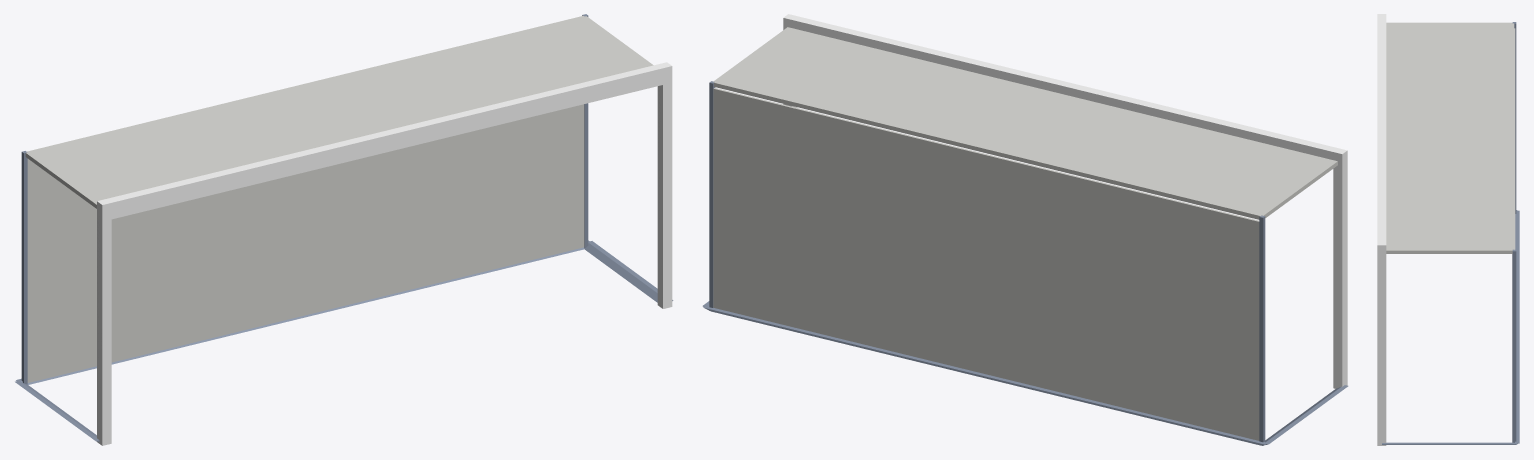
Rendered from goal_soccer.glb.
3 renders of one model, left to right at view 1: azimuth 30°, elevation 25°; view 2: azimuth 150°, elevation 25°; view 3: azimuth 270°, elevation 25°, orthographic. The views are drawn at different scales.
Visible parts, largest first — view 1: goal_soccer_offwhite, goal_soccer_white, goal_soccer_metal; view 2: goal_soccer_offwhite, goal_soccer_white, goal_soccer_metal; view 3: goal_soccer_offwhite, goal_soccer_white, goal_soccer_metal.
Boxes of the visible parts, x1,y1,x2,y2 form: goal_soccer_offwhite: [25, 15, 653, 382]; goal_soccer_white: [97, 62, 672, 445]; goal_soccer_metal: [15, 14, 673, 442]; goal_soccer_offwhite: [713, 27, 1337, 440]; goal_soccer_white: [783, 14, 1347, 388]; goal_soccer_metal: [702, 81, 1348, 445]; goal_soccer_offwhite: [1386, 22, 1515, 253]; goal_soccer_white: [1377, 14, 1386, 445]; goal_soccer_metal: [1382, 22, 1519, 444].
Bounding box in the file's own units: 7.84 × 3.12 × 2.01.
